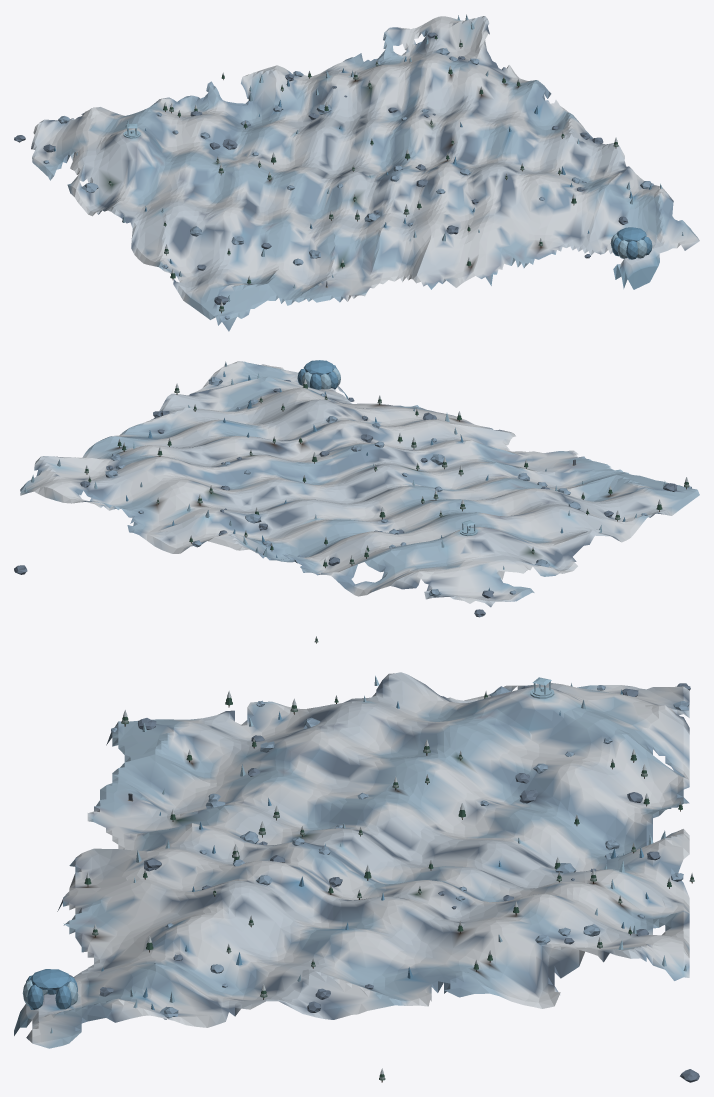
The model's file is frost_isl_aurora_arch_lod1.glb.
3 renders of one model, top to bottom at view 1: azimuth 30°, elevation 25°; view 2: azimuth 150°, elevation 25°; view 3: azimuth 270°, elevation 25°, orthographic. The views are drawn at different scales.
Visible parts, largest first — view 1: geometry_0; view 2: geometry_0; view 3: geometry_0.
Boxes of the visible parts, x1,y1,x2,y2 form: geometry_0: (14,14,699,331); geometry_0: (14,360,699,643); geometry_0: (14,672,699,1082).
Bounding box in the file's own units: 242 × 51.54 × 223.
